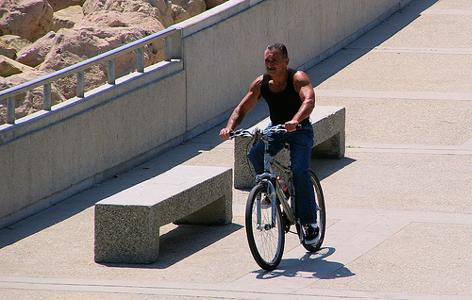person: (216, 42, 323, 249)
